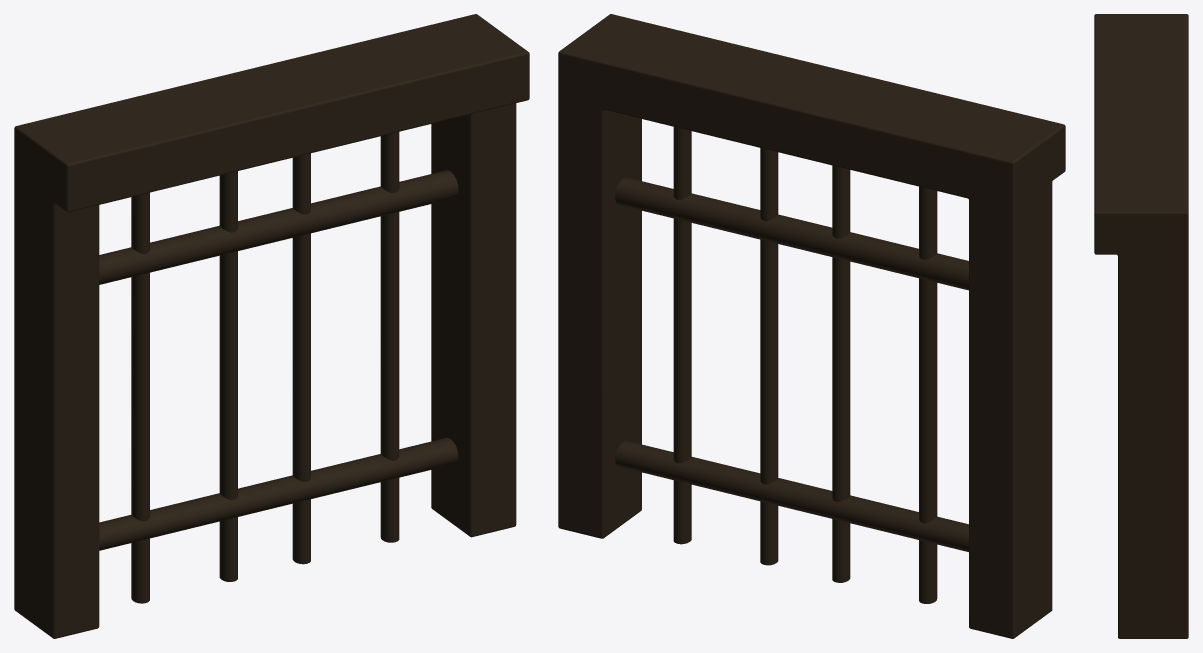
File: GrataColTop.fbx
The picture shows the model from 3 angles, left to right: view 1: azimuth 30°, elevation 25°; view 2: azimuth 150°, elevation 25°; view 3: azimuth 270°, elevation 25°; orthographic projection. The views are drawn at different scales.
Parts seen in each view (by area): view 1: Cube.018, Cube.020, GrataColTop; view 2: Cube.018, Cube.020, GrataColTop; view 3: Cube.018.
Boxes of the visible parts, box(x1,y1,x2,y2) form: Cube.018: box(14, 14, 529, 638); Cube.020: box(131, 132, 399, 603); GrataColTop: box(99, 170, 458, 550); Cube.018: box(558, 14, 1065, 638); Cube.020: box(673, 127, 937, 603); GrataColTop: box(615, 177, 968, 551); Cube.018: box(1094, 14, 1188, 638).
Size of the model in its own units: 200 by 200 by 40.
